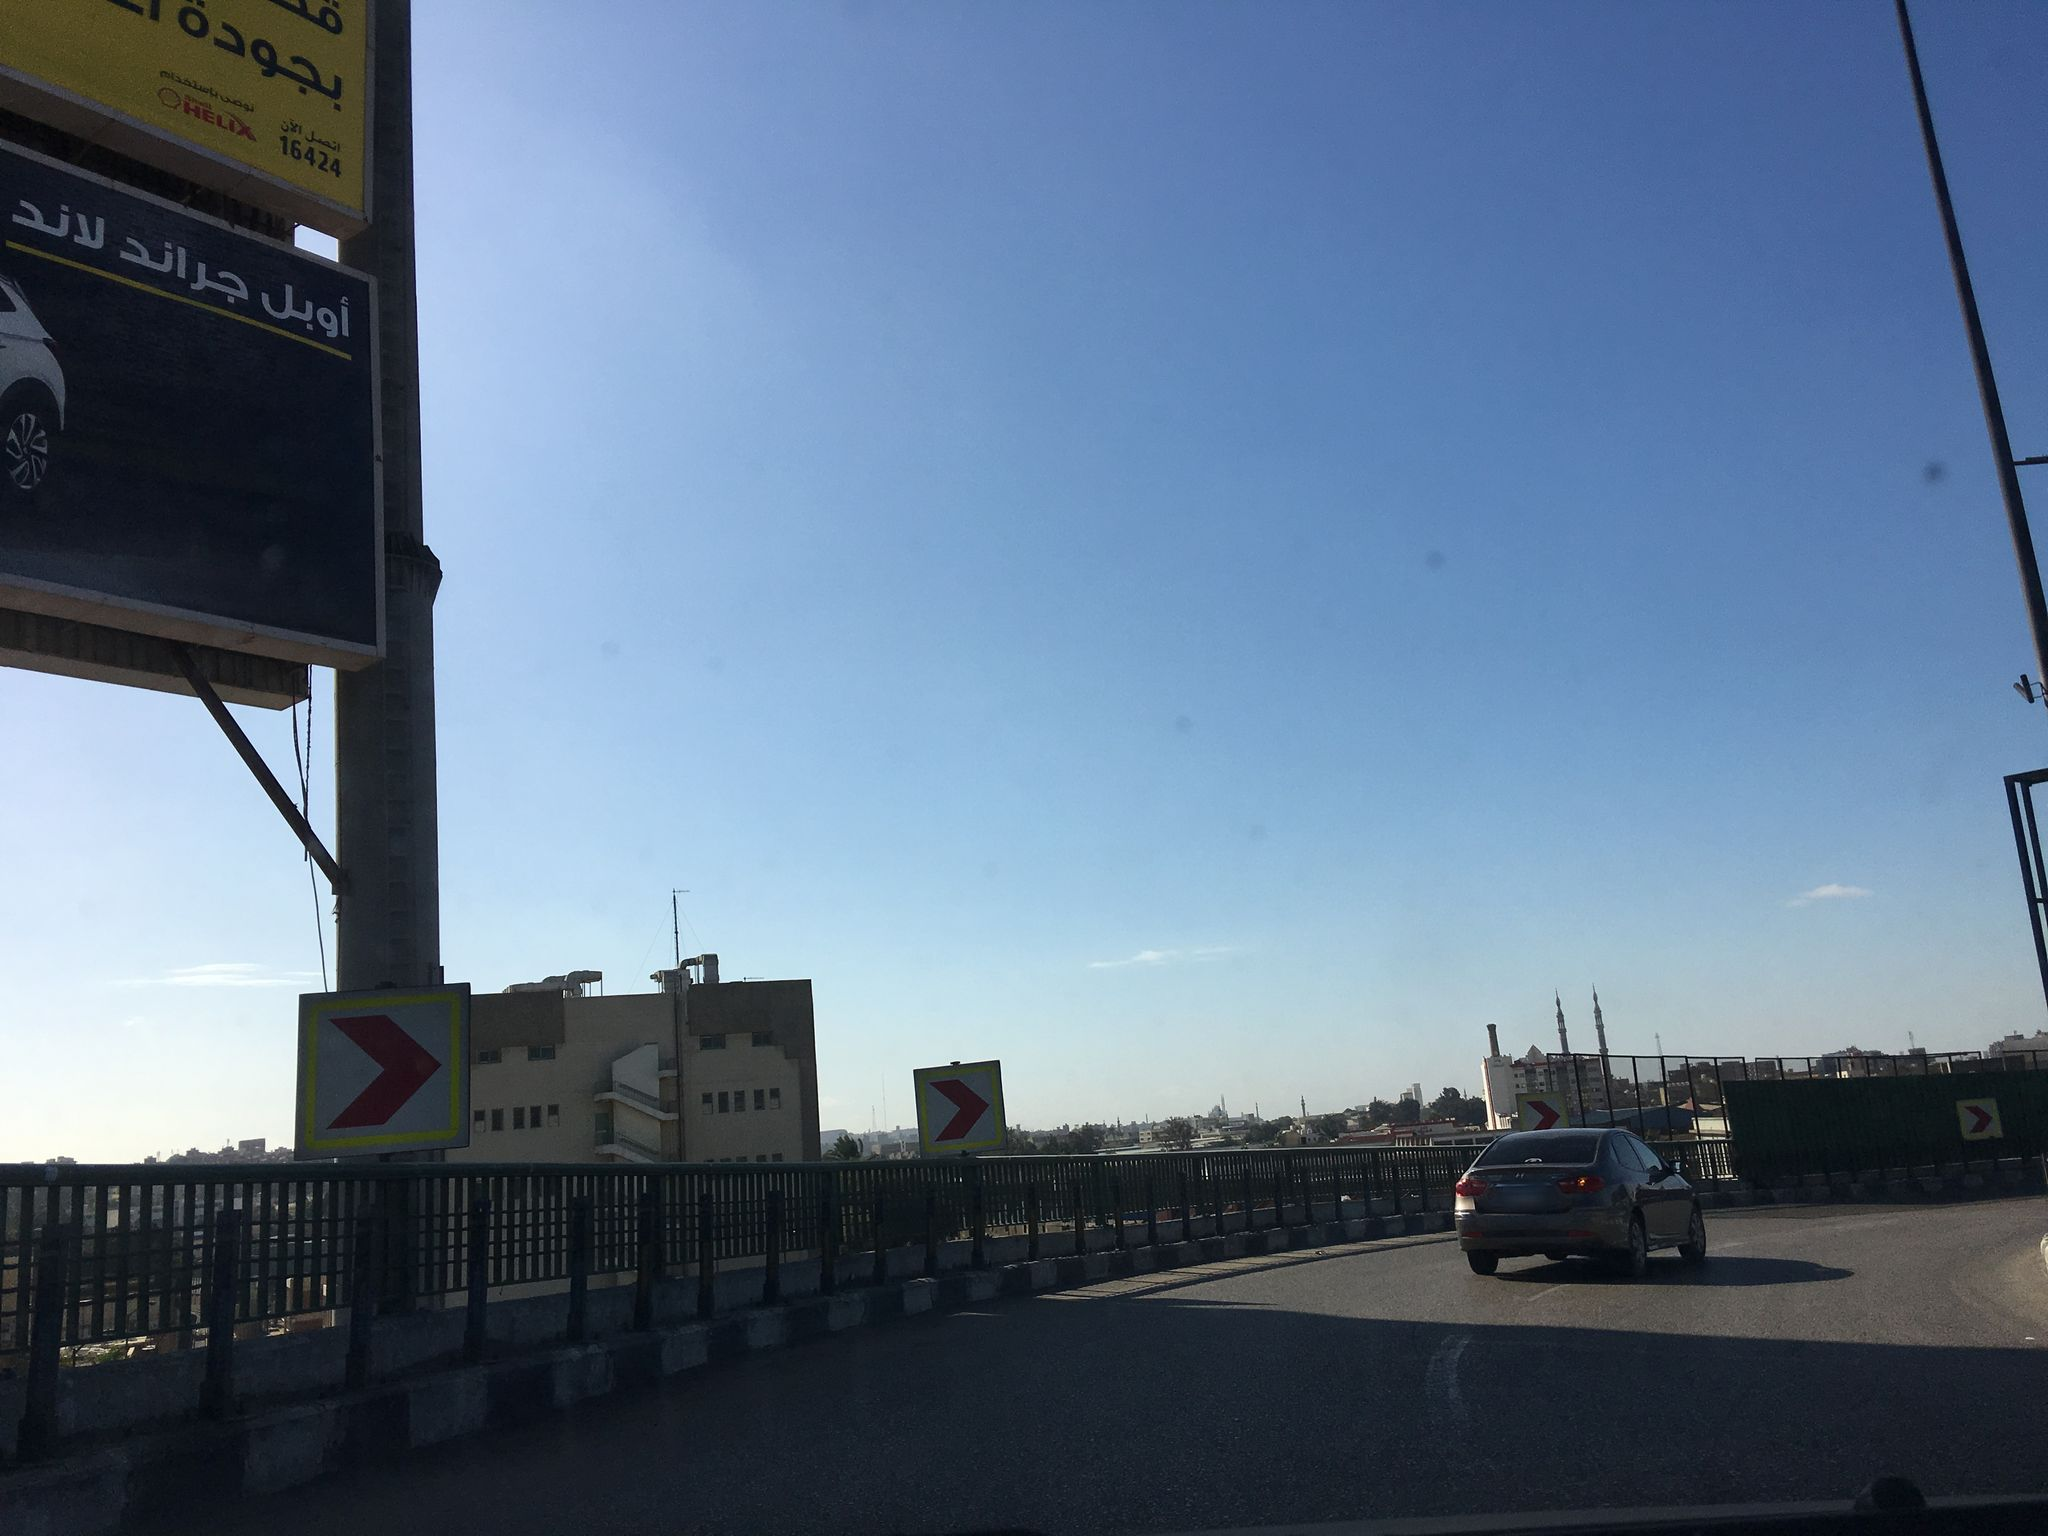car: (1451, 1128, 1708, 1278)
